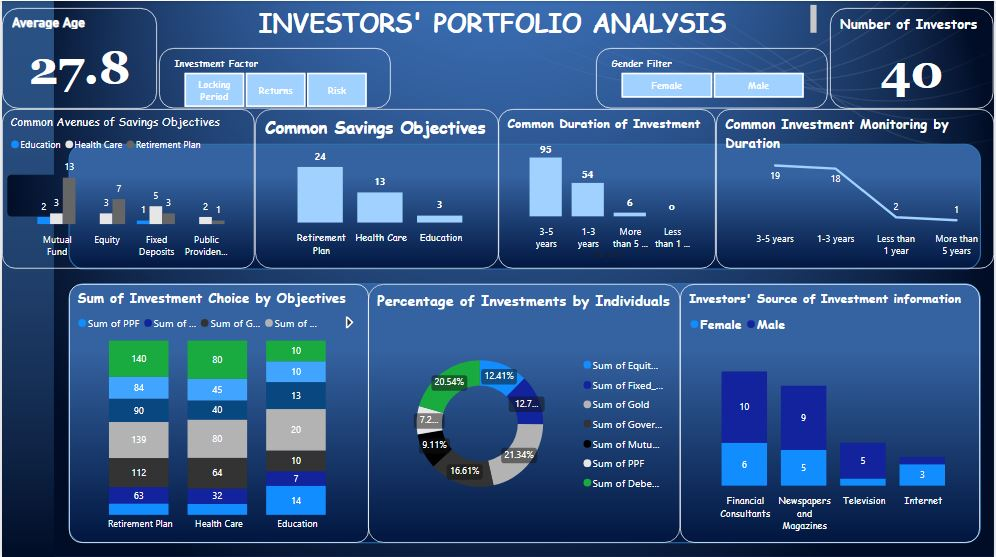

This screenshot's page, from the dashboard's own definition file:
{"tool":"powerbi","page":{"name":"Page 3","canvas":[1280,720],"ordinal":3},"visuals":[{"type":"columnChart","title":"Common Savings Objectives","fields":{"Category":["Data_set 2.Savings_objectives"],"Y":["Data_set 2.count_of_Sav_obj"]},"box":[326,138.9,314.6,205.5],"z":0},{"type":"columnChart","title":"Common Duration of Investment","fields":{"Category":["Data_set 2.Duration"],"Y":["Sum(Data_set 2.Duration_year)"]},"box":[640.6,138.9,280.6,205.5],"z":1},{"type":"lineChart","title":"Common Investment Monitoring by Duration","fields":{"Y":["CountNonNull(Data_set 2.Invest_Monitor)"],"Category":["Data_set 2.Duration"]},"box":[921.3,138.9,358.6,205.5],"z":2},{"type":"donutChart","title":"Percentage of Investments by Individuals","fields":{"Y":["Sum(Data_set 2.Equity_Market)","Sum(Data_set 2.Fixed_Deposits)","Sum(Data_set 2.Gold)","Sum(Data_set 2.Government_Bonds)","Sum(Data_set 2.Mutual_Funds)","Sum(Data_set 2.PPF)","Sum(Data_set 2.Debentures)"]},"box":[472.3,365.2,402.6,334.2],"z":3},{"type":"card","title":"Average Age","fields":{"Values":["Avg(Data_set 2.age)"]},"box":[0,9,200,130.3],"z":6},{"type":"clusteredColumnChart","title":"Common Avenues of Savings Objectives","fields":{"Category":["Data_set 2.Avenue"],"Y":["Data_set 2.count_of_Sav_obj"],"Series":["Data_set 2.Savings_objectives"]},"box":[0,138.9,326,205.5],"z":7},{"type":"hundredPercentStackedColumnChart","title":"Sum of Investment Choice by Objectives","fields":{"Y":["Sum(Data_set 2.PPF)","Sum(Data_set 2.Mutual_Funds)","Sum(Data_set 2.Government_Bonds)","Sum(Data_set 2.Gold)","Sum(Data_set 2.Fixed_Deposits)","Sum(Data_set 2.Equity_Market)","Sum(Data_set 2.Debentures)"],"Category":["Data_set 2.Savings_objectives"]},"box":[86.5,365.2,387.1,334.2],"z":8},{"type":"columnChart","title":"Investors'' Source of Investment information","fields":{"Category":["Data_set 2.Source"],"Y":["CountNonNull(Data_set 2.gender)"],"Series":["Data_set 2.gender"]},"box":[874.8,365.2,387.1,334.2],"z":9},{"type":"card","title":"Number of Investors","fields":{"Values":["CountNonNull(Data_set 2.gender)"]},"box":[1068.7,8.5,211.2,130.4],"z":10},{"type":"slicer","fields":{"Values":["Data_set 2.gender"]},"box":[766.8,60.9,299.1,78],"z":11},{"type":"slicer","fields":{"Values":["Data_set 2.Factor"]},"box":[202.7,60.9,299.1,78],"z":12},{"type":"textbox","box":[218.3,0,837.6,49.6],"z":13}]}

Visuals, with their boxes in screenshot pixels (x1, y1, x2, y2), scaled from the page's 1280x720 canvas onto the 996x557 screenshot:
"Common Savings Objectives" columnChart: bbox(254, 107, 498, 266)
"Common Duration of Investment" columnChart: bbox(498, 107, 717, 266)
"Common Investment Monitoring by Duration" lineChart: bbox(717, 107, 995, 266)
"Percentage of Investments by Individuals" donutChart: bbox(368, 283, 681, 541)
"Average Age" card: bbox(0, 7, 156, 108)
"Common Avenues of Savings Objectives" clusteredColumnChart: bbox(0, 107, 254, 266)
"Sum of Investment Choice by Objectives" hundredPercentStackedColumnChart: bbox(67, 283, 369, 541)
"Investors'' Source of Investment information" columnChart: bbox(681, 283, 982, 541)
"Number of Investors" card: bbox(832, 7, 995, 107)
slicer - Data_set 2.gender: bbox(597, 47, 829, 107)
slicer - Data_set 2.Factor: bbox(158, 47, 390, 107)
textbox: bbox(170, 0, 822, 38)
